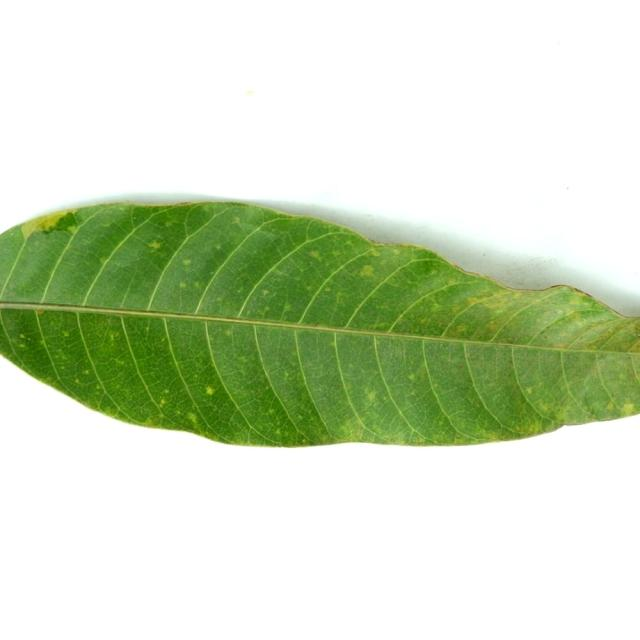Mango: (0, 204, 639, 446)
Powdery_Mildew: (278, 364, 342, 410), (543, 308, 604, 337), (224, 393, 270, 419), (365, 428, 413, 445), (351, 261, 383, 282), (136, 321, 158, 345), (20, 220, 38, 240), (143, 238, 164, 254), (268, 267, 292, 280), (632, 333, 640, 353), (40, 225, 55, 235), (145, 418, 158, 426), (99, 256, 108, 264), (109, 332, 118, 340), (36, 308, 46, 315), (115, 358, 125, 365), (44, 376, 54, 383), (67, 225, 76, 232), (584, 401, 591, 410), (164, 221, 173, 227), (308, 260, 315, 267), (556, 309, 563, 316), (18, 343, 26, 349), (314, 321, 320, 326), (11, 232, 16, 237), (636, 332, 640, 337)
